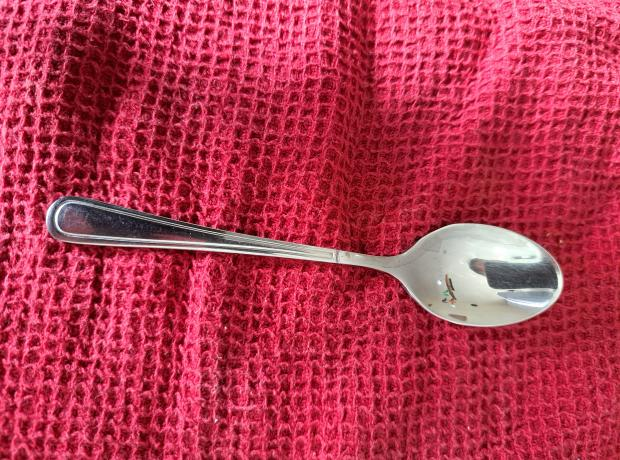metal: (53, 201, 565, 331)
